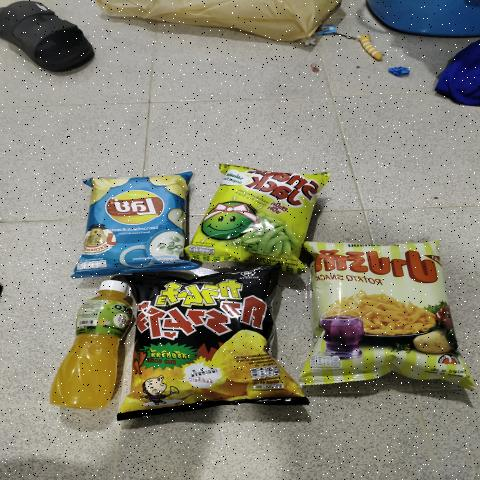karamujo: (134, 268, 272, 411)
lay_blue: (95, 175, 177, 267)
paprika: (315, 248, 442, 378)
snack_jack: (200, 173, 312, 252)
